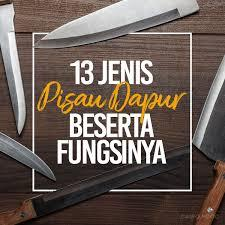knives: (25, 8, 207, 53)
